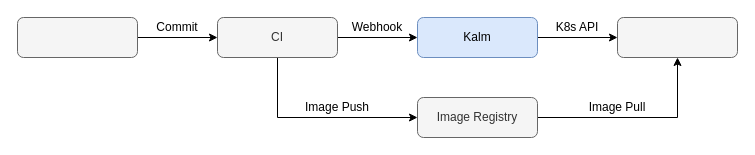
Some shapes in this 755 by 155 pixel diagram are drawn without their labels. Here are the shapes that lost their labels. From the top down, the centre of each, then its label:
point 77,37: Code
point 677,37: GKE / EKS
